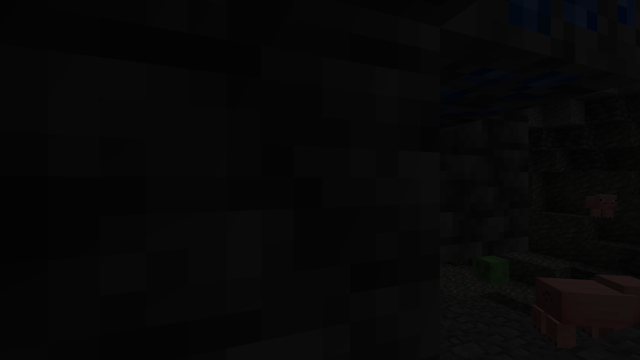cochons: (533, 271, 636, 344), (578, 195, 611, 218)
slimes: (472, 256, 509, 285)
